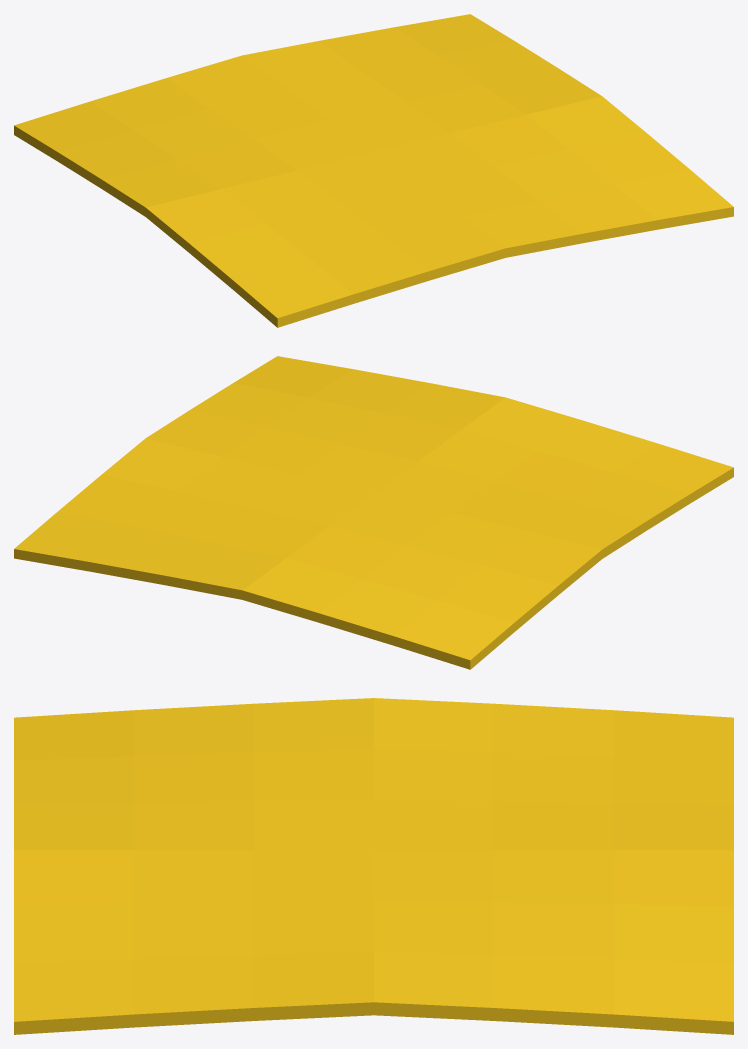
File: cheese_slice.glb
3 views of the same model, one above another, from view 1: azimuth 30°, elevation 25°; view 2: azimuth 150°, elevation 25°; view 3: azimuth 270°, elevation 25° (orthographic). The views are drawn at different scales.
Parts seen in each view (by area): view 1: CheeseSlice; view 2: CheeseSlice; view 3: CheeseSlice.
Boxes of the visible parts, x1,y1,x2,y2 form: CheeseSlice: (14, 14, 733, 327); CheeseSlice: (14, 356, 733, 669); CheeseSlice: (14, 698, 733, 1034).
Bounding box in the file's own units: 3 × 0.15 × 3.
